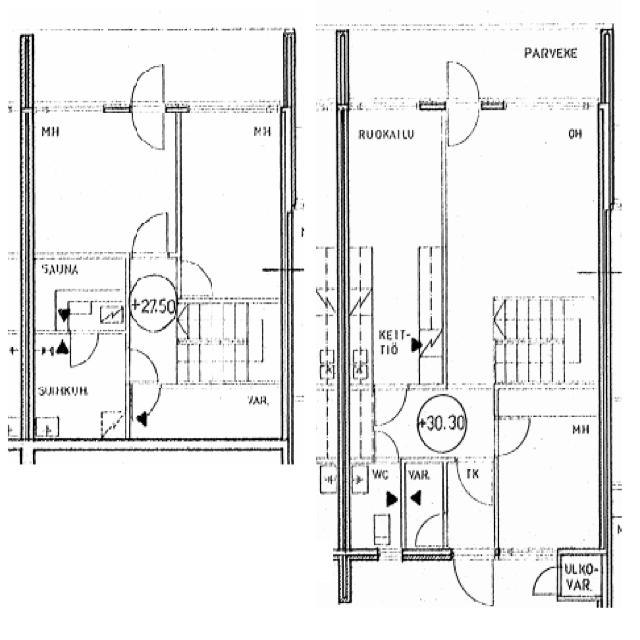door: (128, 58, 168, 152), (444, 57, 482, 150), (129, 207, 172, 260), (455, 455, 497, 508), (453, 551, 494, 604), (178, 255, 218, 299), (492, 414, 532, 458), (370, 386, 409, 428), (412, 508, 449, 550), (125, 343, 160, 386), (67, 330, 101, 369), (529, 560, 561, 596), (372, 428, 401, 462)
window: (41, 100, 109, 120), (356, 100, 423, 116)
zone: (178, 111, 282, 300), (495, 417, 602, 552), (32, 332, 130, 441), (177, 302, 247, 385), (346, 463, 402, 553), (402, 454, 444, 550), (318, 114, 346, 250), (558, 552, 604, 601), (408, 503, 449, 548)
